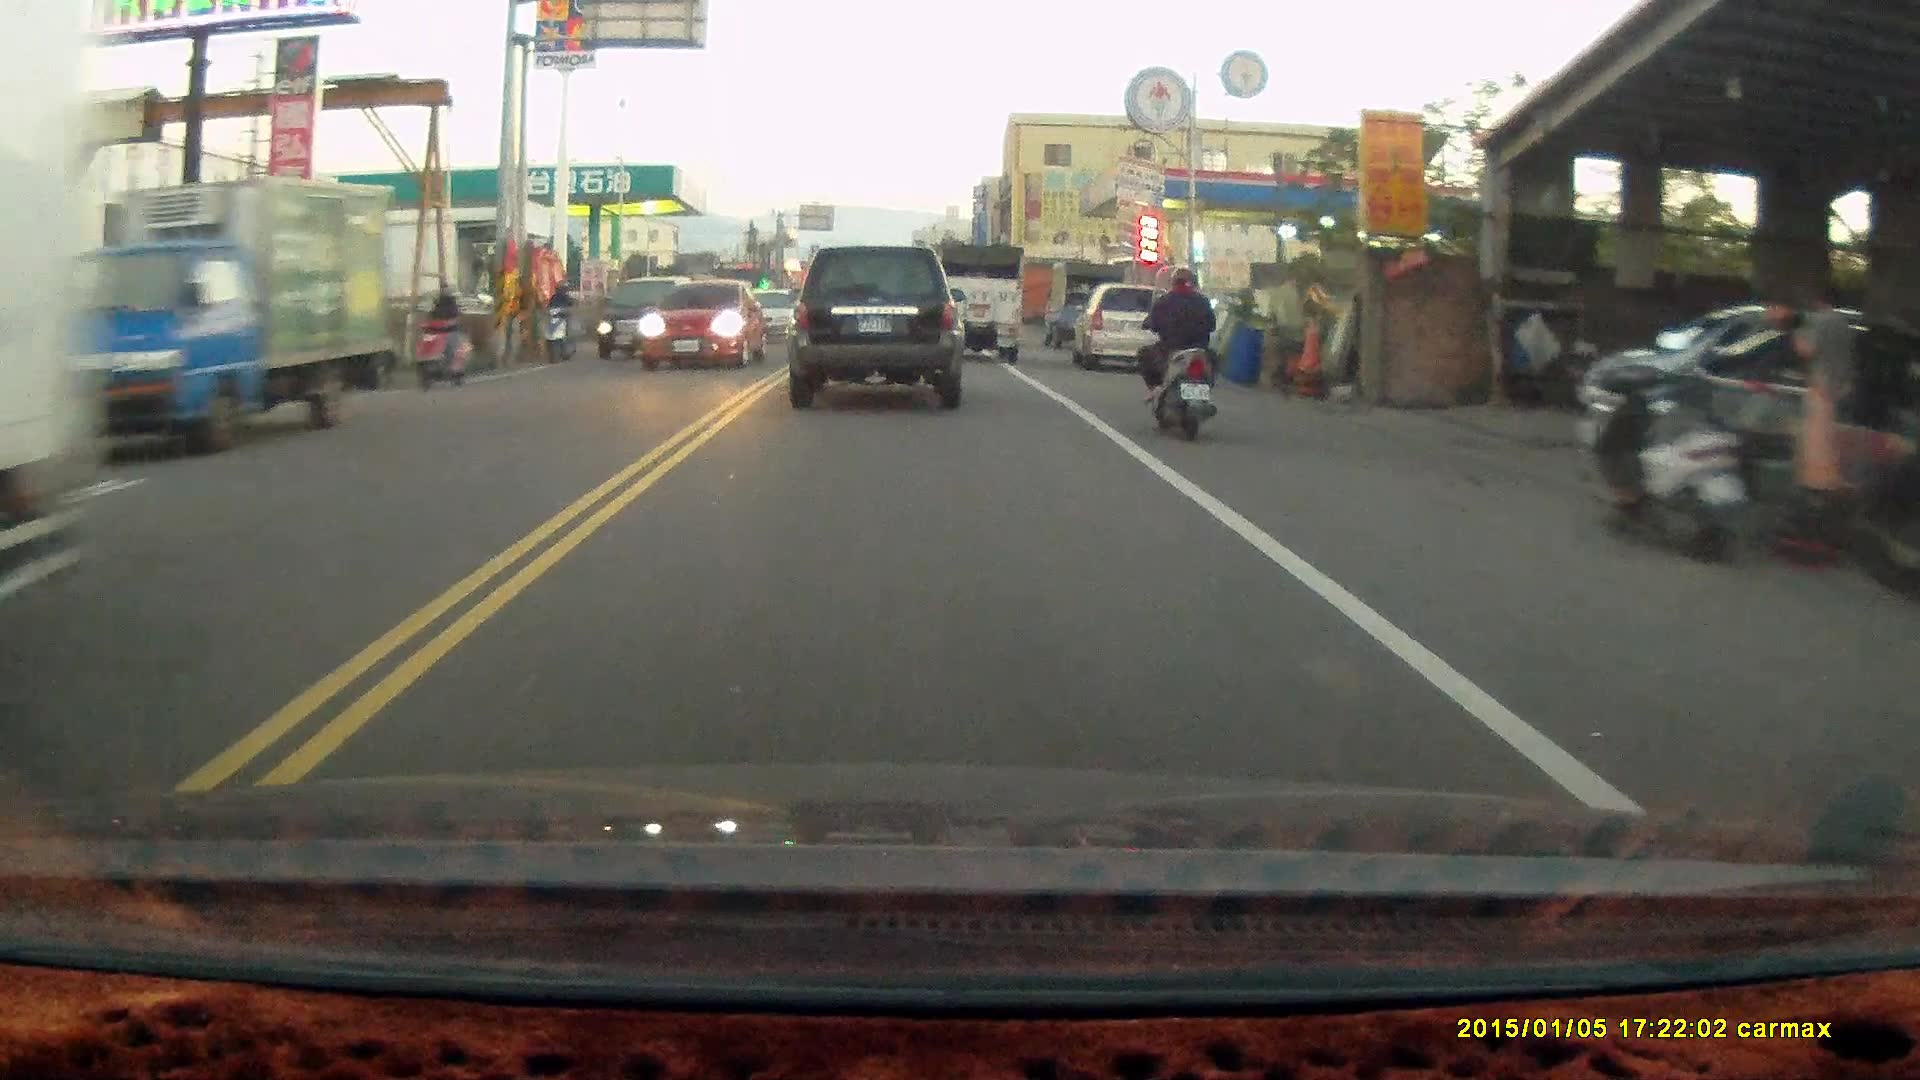pedestrian: (1793, 284, 1855, 445)
rider: (1137, 267, 1230, 445), (405, 281, 481, 389), (544, 282, 582, 362)
vehicle: (38, 170, 390, 455), (784, 243, 966, 411), (645, 284, 775, 378), (933, 243, 1025, 365), (1075, 285, 1182, 375), (597, 275, 698, 361)
